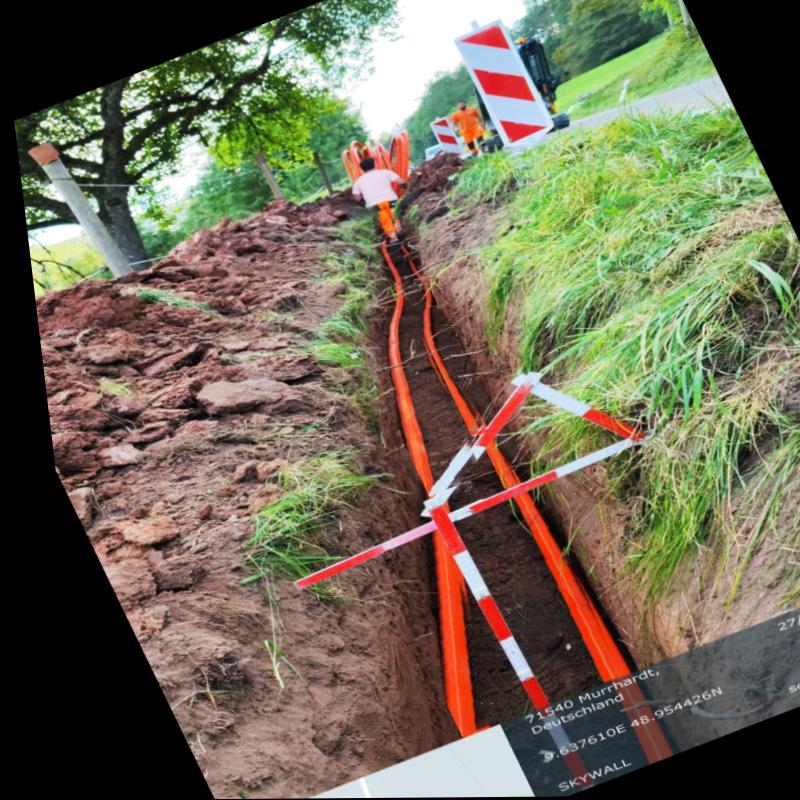Orang-Speednetrohrchen: (502, 491, 605, 683), (382, 283, 423, 494), (420, 530, 459, 736), (416, 299, 469, 437), (474, 441, 506, 488)
